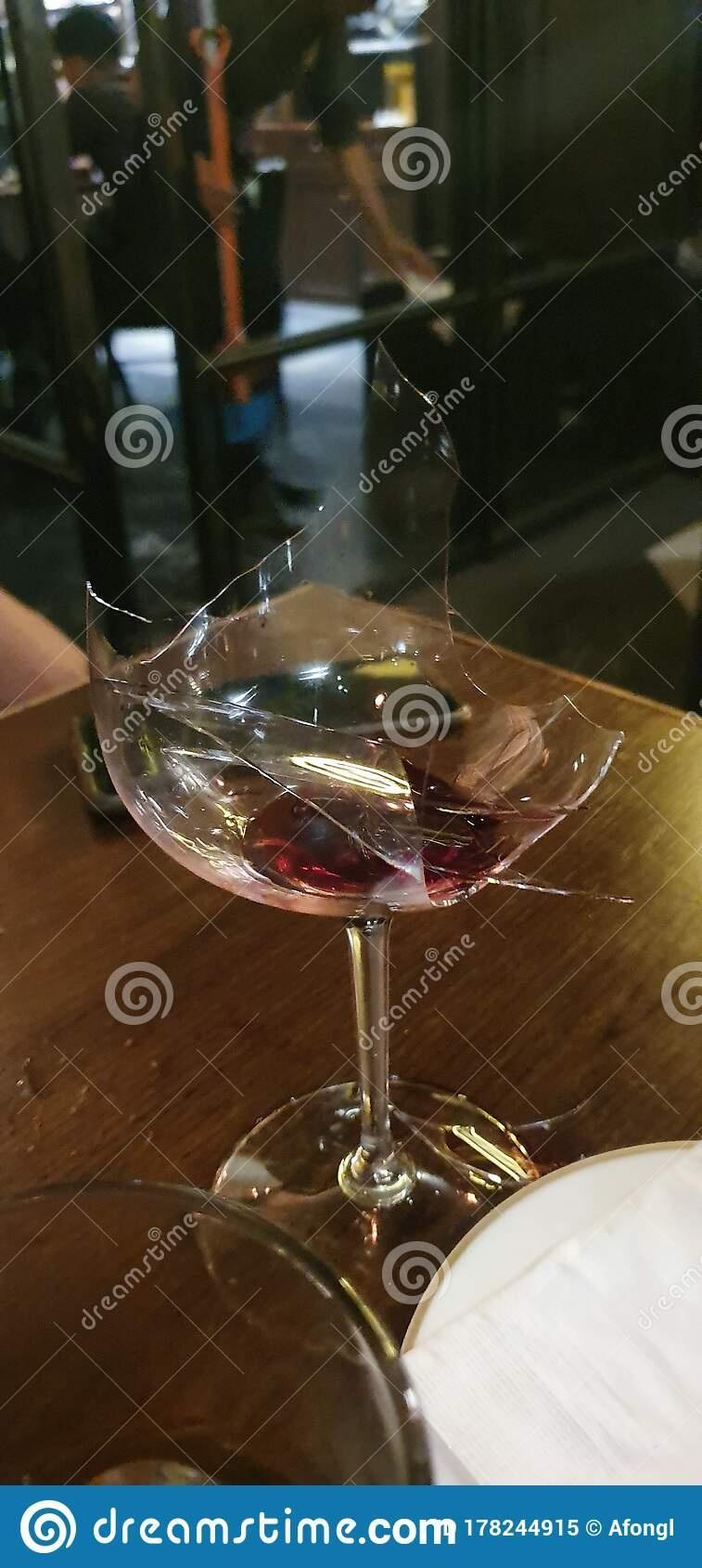glass-wine: (25, 299, 702, 1344)
